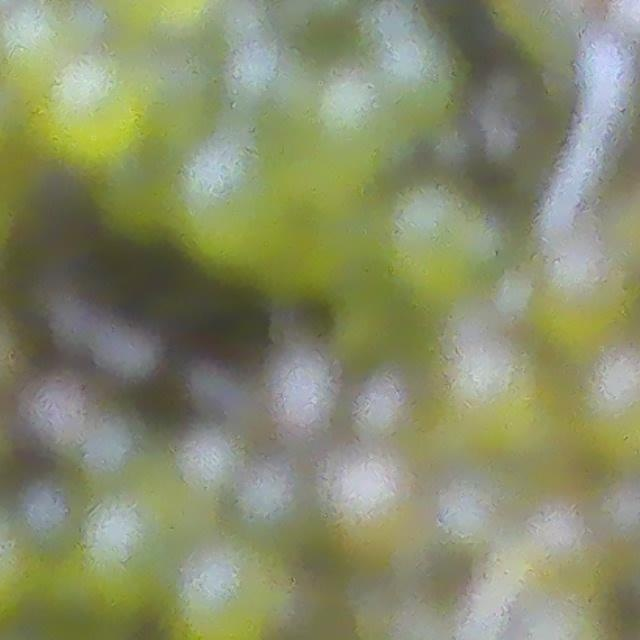SeaGrape: (31, 52, 144, 160), (310, 74, 386, 155), (177, 431, 240, 494)
